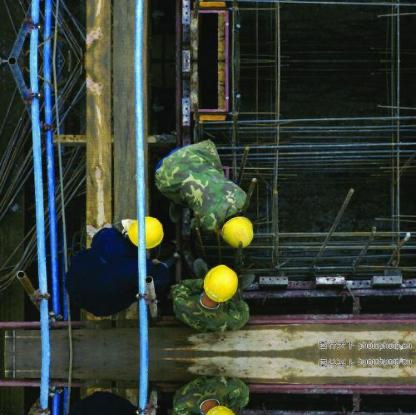Safety Helmet: (117, 208, 173, 255), (198, 257, 243, 309), (213, 212, 259, 253)
